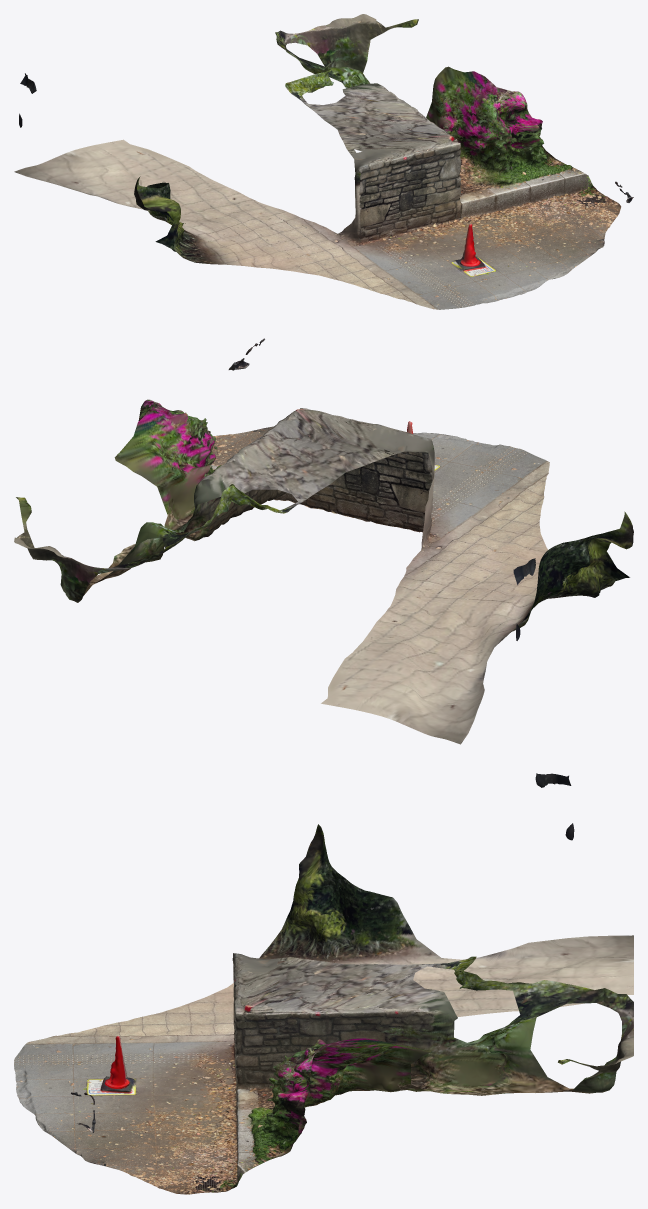
3 views of the same model, one above another, from view 1: azimuth 30°, elevation 25°; view 2: azimuth 150°, elevation 25°; view 3: azimuth 270°, elevation 25° (orthographic). The views are drawn at different scales.
Parts seen in each view (by area): view 1: baked_mesh_30faa263; view 2: baked_mesh_30faa263; view 3: baked_mesh_30faa263.
Part boxes in pixels (left/top/right/bottom): baked_mesh_30faa263: left=14, top=14, right=633, bottom=309; baked_mesh_30faa263: left=14, top=338, right=633, bottom=744; baked_mesh_30faa263: left=14, top=773, right=633, bottom=1194.
Size of the model in its own units: 2.85 by 0.7751 by 2.78.
1 material, 1 textured.
